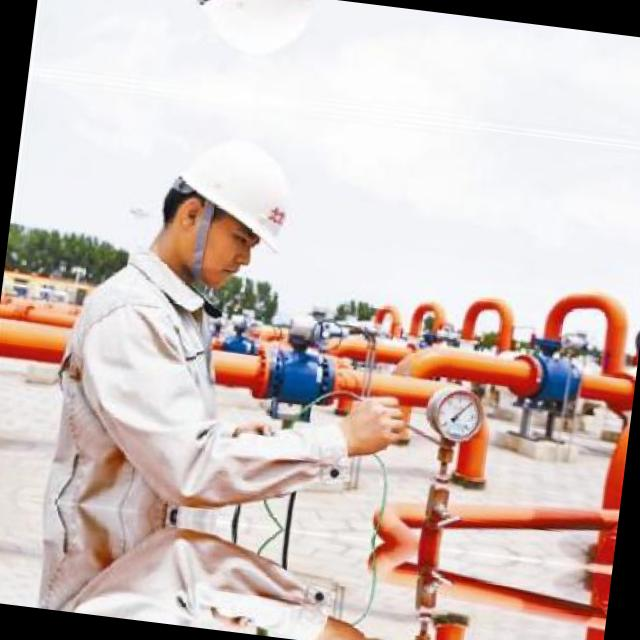helmet: (134, 111, 317, 304), (161, 0, 334, 78)
